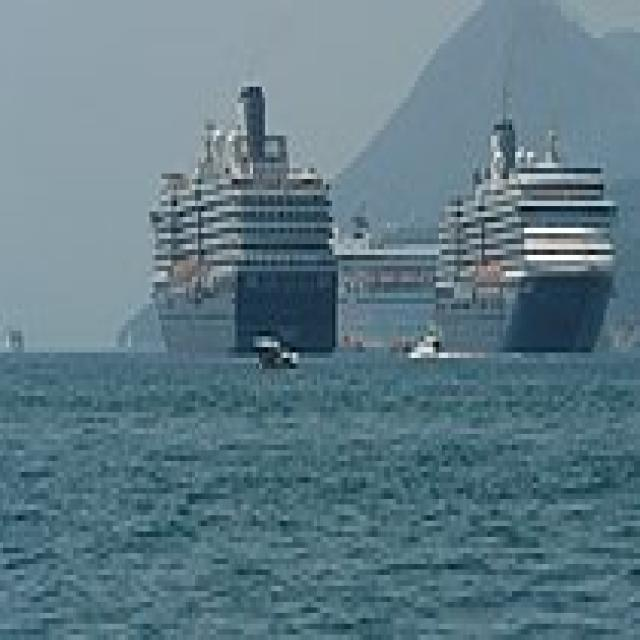Cruise: (144, 70, 342, 358), (429, 103, 622, 347)
